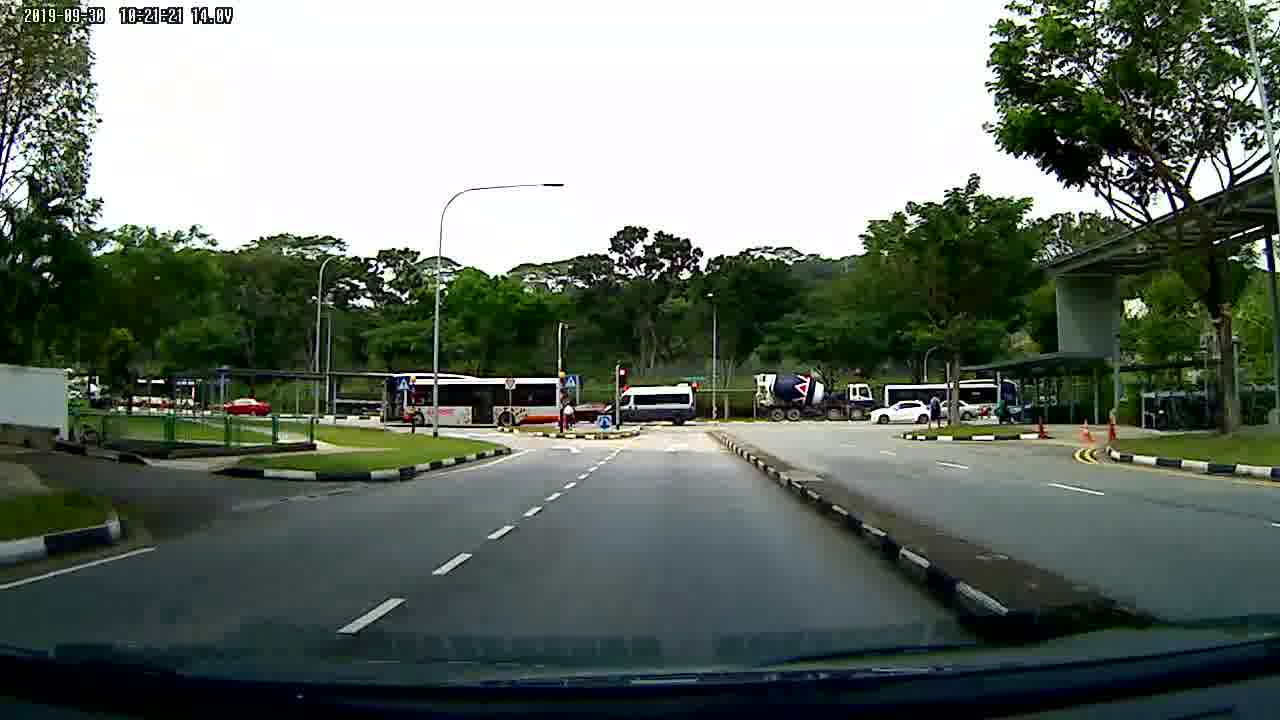bus: (379, 372, 566, 430), (883, 379, 1022, 422)
car: (869, 399, 930, 427), (211, 398, 277, 420)
